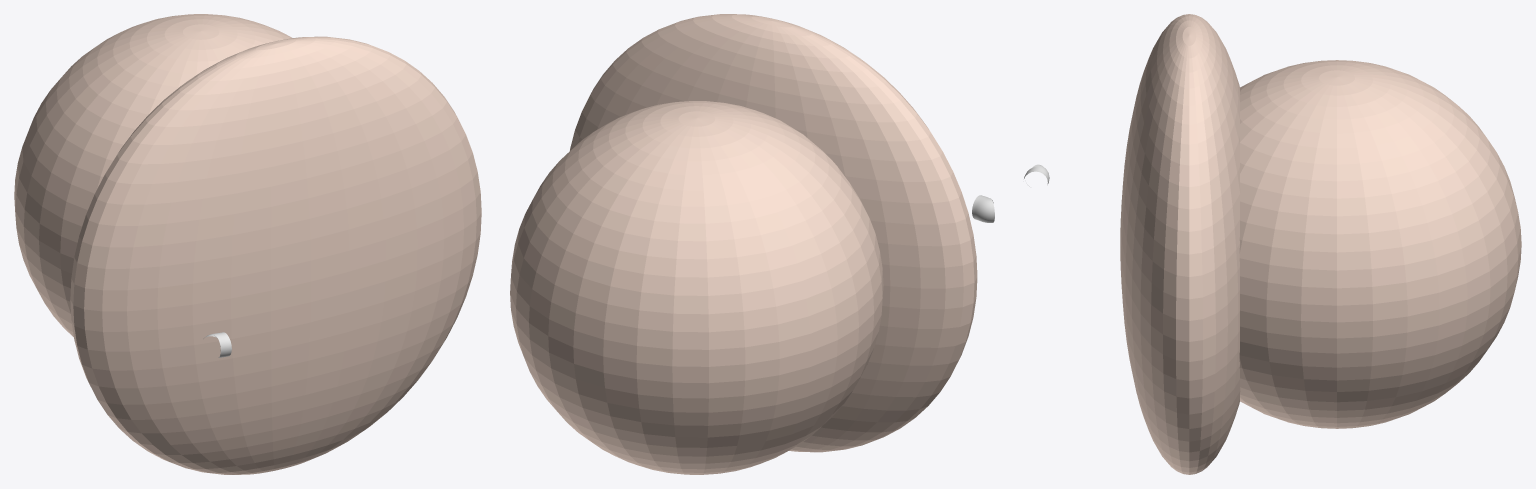
File: fetus_week_08.glb
3 views of the same model, side by side, from view 1: azimuth 30°, elevation 25°; view 2: azimuth 150°, elevation 25°; view 3: azimuth 270°, elevation 25° (orthographic).
Parts seen in each view (by area): view 1: fetal_body_w8, fetal_head_w8; view 2: fetal_head_w8, fetal_body_w8, BézierCurve; view 3: fetal_head_w8, fetal_body_w8.
Boxes of the visible parts, bbox=[...] form: fetal_body_w8: bbox=[70, 36, 481, 474]; fetal_head_w8: bbox=[14, 14, 292, 337]; fetal_head_w8: bbox=[510, 101, 883, 474]; fetal_body_w8: bbox=[570, 14, 977, 452]; BézierCurve: bbox=[972, 195, 994, 222]; fetal_head_w8: bbox=[1239, 60, 1521, 428]; fetal_body_w8: bbox=[1120, 14, 1240, 474].
Size of the model in its own units: 0.3 by 0.3 by 0.324.
